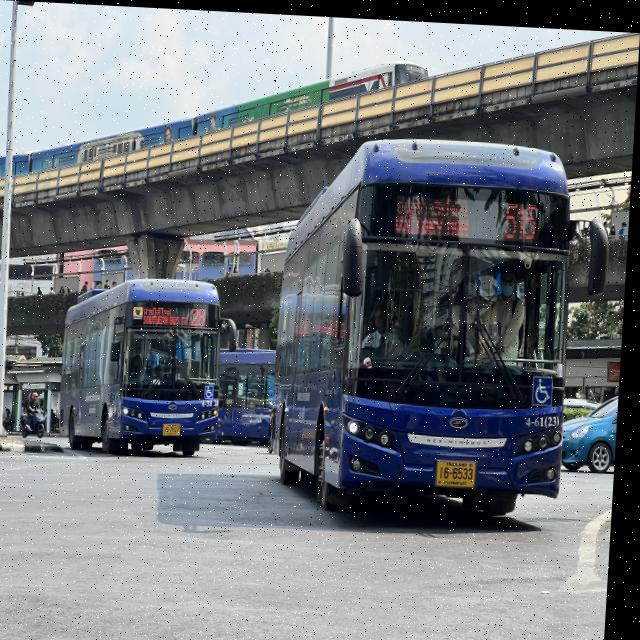Bus Line Number: (502, 191, 544, 238), (193, 303, 213, 325)
Bus Side Number: (530, 406, 565, 424), (205, 396, 224, 405)
Destination Sign: (396, 188, 476, 234), (146, 302, 193, 326)
TSB-Bus: (277, 134, 577, 512), (64, 276, 225, 457), (217, 347, 280, 444)
